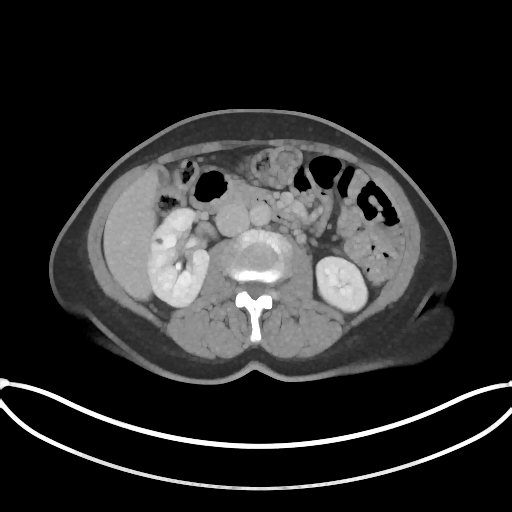Lesion: (146, 260, 155, 276)
